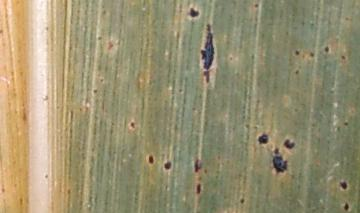tarspot: (201, 23, 214, 70), (272, 154, 287, 174), (193, 157, 202, 174), (258, 132, 269, 145), (189, 6, 200, 18), (284, 138, 295, 149), (203, 70, 211, 83), (161, 160, 172, 169), (128, 119, 137, 130), (147, 154, 155, 165), (196, 182, 202, 195), (340, 180, 347, 191), (307, 50, 316, 58), (323, 44, 330, 53), (96, 32, 103, 41), (343, 202, 349, 212), (91, 87, 99, 94), (340, 53, 347, 61), (42, 172, 50, 179), (177, 86, 184, 93), (294, 48, 300, 56), (253, 2, 260, 8), (294, 68, 300, 75), (274, 147, 279, 154), (239, 198, 246, 203), (343, 121, 350, 126), (1, 27, 3, 34)
